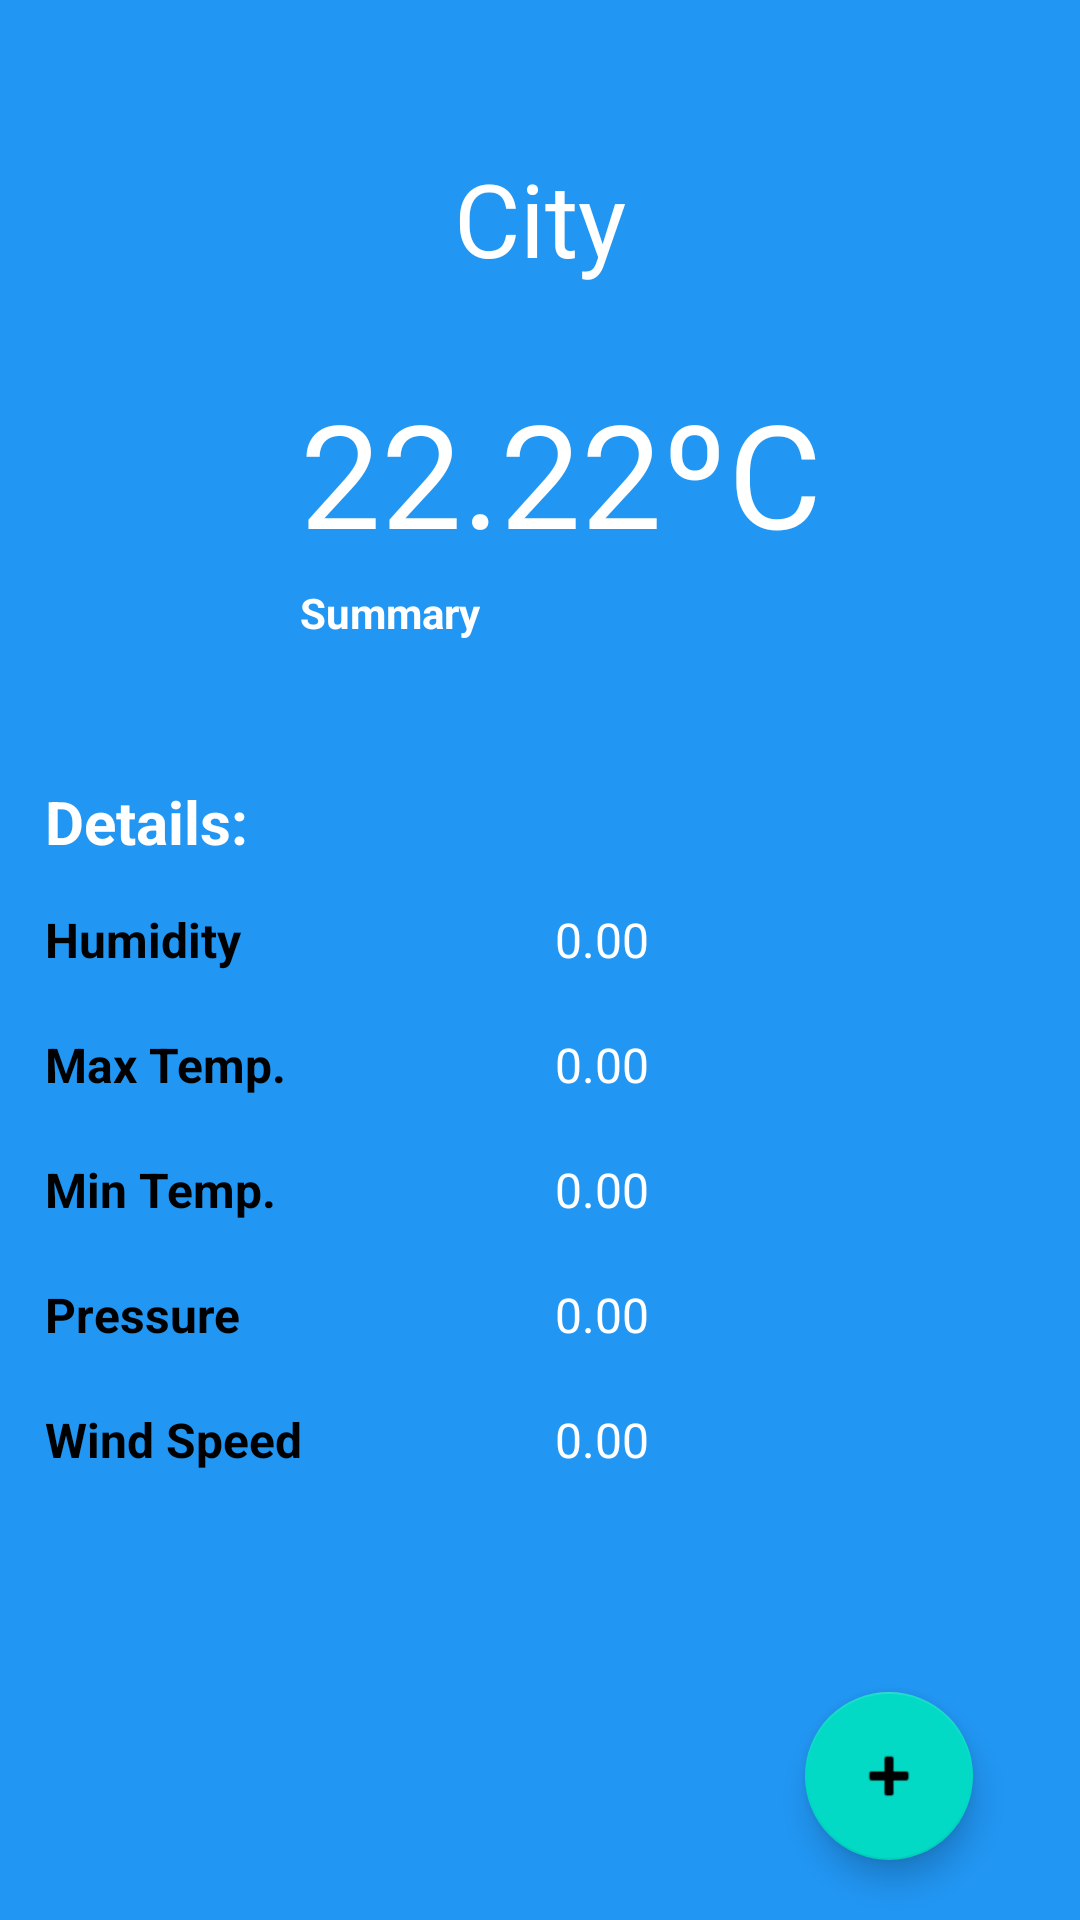

Where icons sit on this 1080*1920 app screen, as {"x1": x1, "y1": y1, "x2": x2, "y2": y2}:
Add City Button: {"x1": 805, "y1": 1692, "x2": 973, "y2": 1860}
